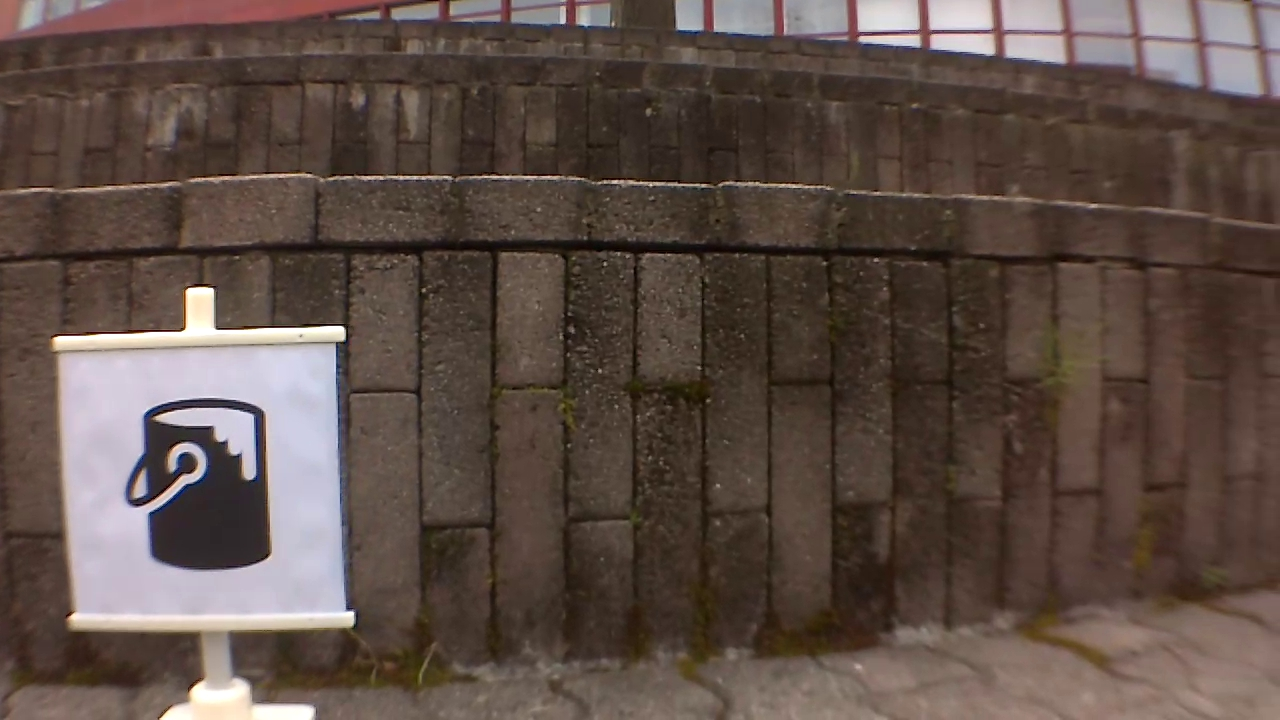bucket: (126, 397, 275, 570)
